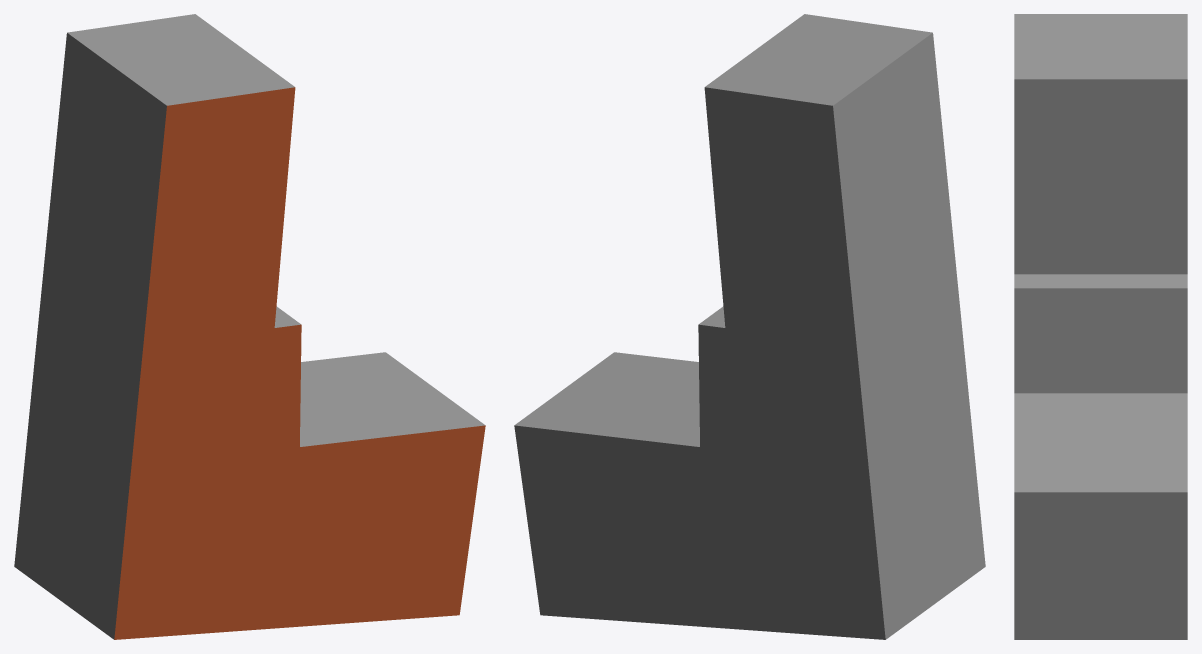
The model's file is construction_6925_assumed_A_Casa_h6m.obj.
The picture shows the model from 3 angles, left to right: view 1: azimuth 30°, elevation 25°; view 2: azimuth 150°, elevation 25°; view 3: azimuth 270°, elevation 25°; orthographic projection. The views are drawn at different scales.
Visible parts, largest first — view 1: construction_6925_assumed_A_Casa; view 2: construction_6925_assumed_A_Casa; view 3: construction_6925_assumed_A_Casa.
Part boxes in pixels (x1,y1,x2,y2): construction_6925_assumed_A_Casa: [14, 14, 485, 639]; construction_6925_assumed_A_Casa: [514, 14, 985, 639]; construction_6925_assumed_A_Casa: [1014, 14, 1187, 639].
Bounding box in the file's own units: 12.86 × 19.22 × 6.
